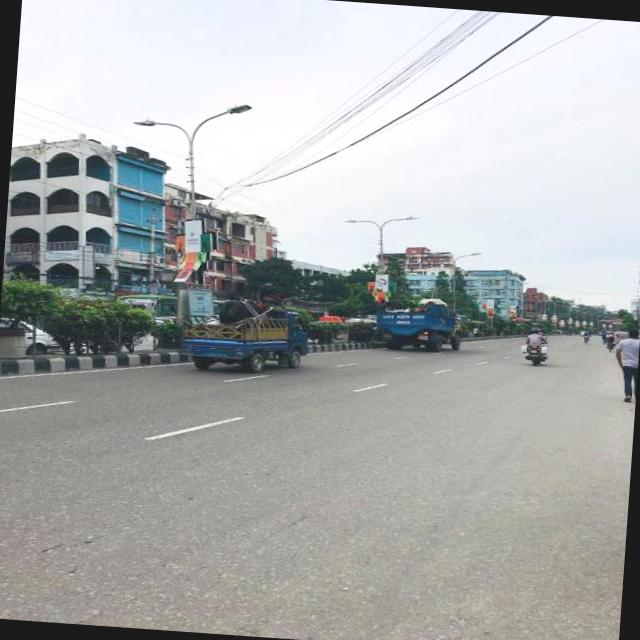motorcycle: (518, 324, 554, 367)
truck: (177, 294, 320, 382), (372, 292, 470, 354)
